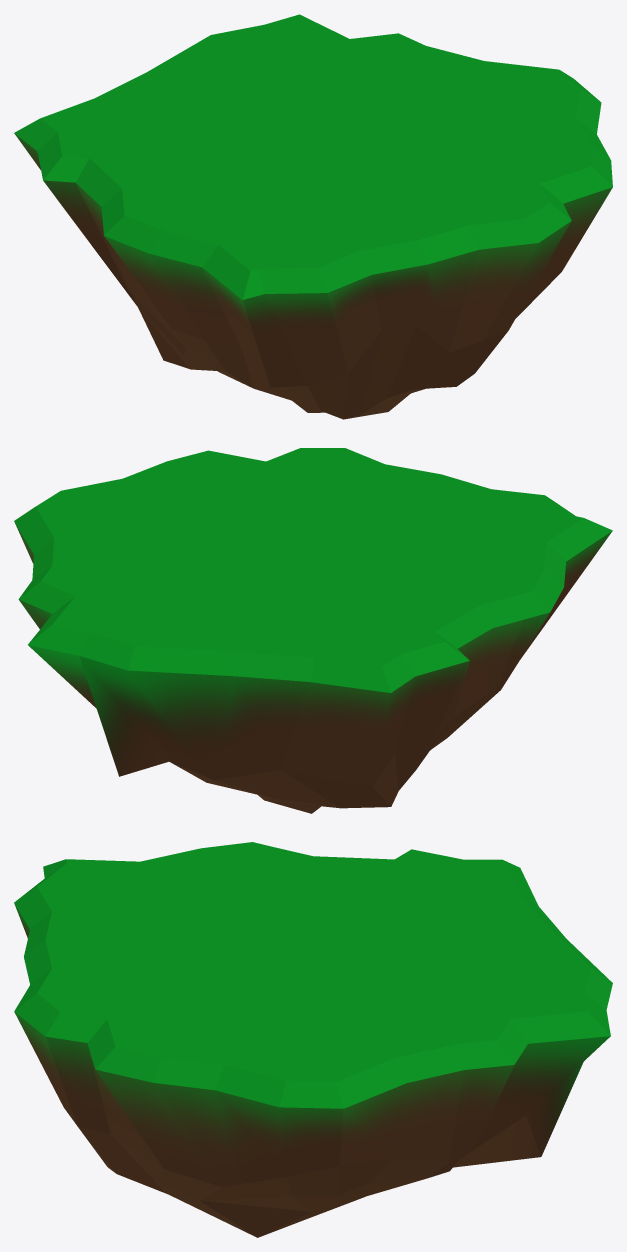
The model's file is floating_island.gltf.
3 renders of one model, top to bottom at view 1: azimuth 30°, elevation 25°; view 2: azimuth 150°, elevation 25°; view 3: azimuth 270°, elevation 25°, orthographic. The views are drawn at different scales.
Visible parts, largest first — view 1: Cone; view 2: Cone; view 3: Cone.
Boxes of the visible parts, x1=… form: Cone: x1=14, y1=14, x2=612, y2=419; Cone: x1=14, y1=448, x2=612, y2=813; Cone: x1=14, y1=842, x2=612, y2=1237.
Size of the model in its own units: 92.65 by 45.88 by 90.08.
1 material, 1 textured.
